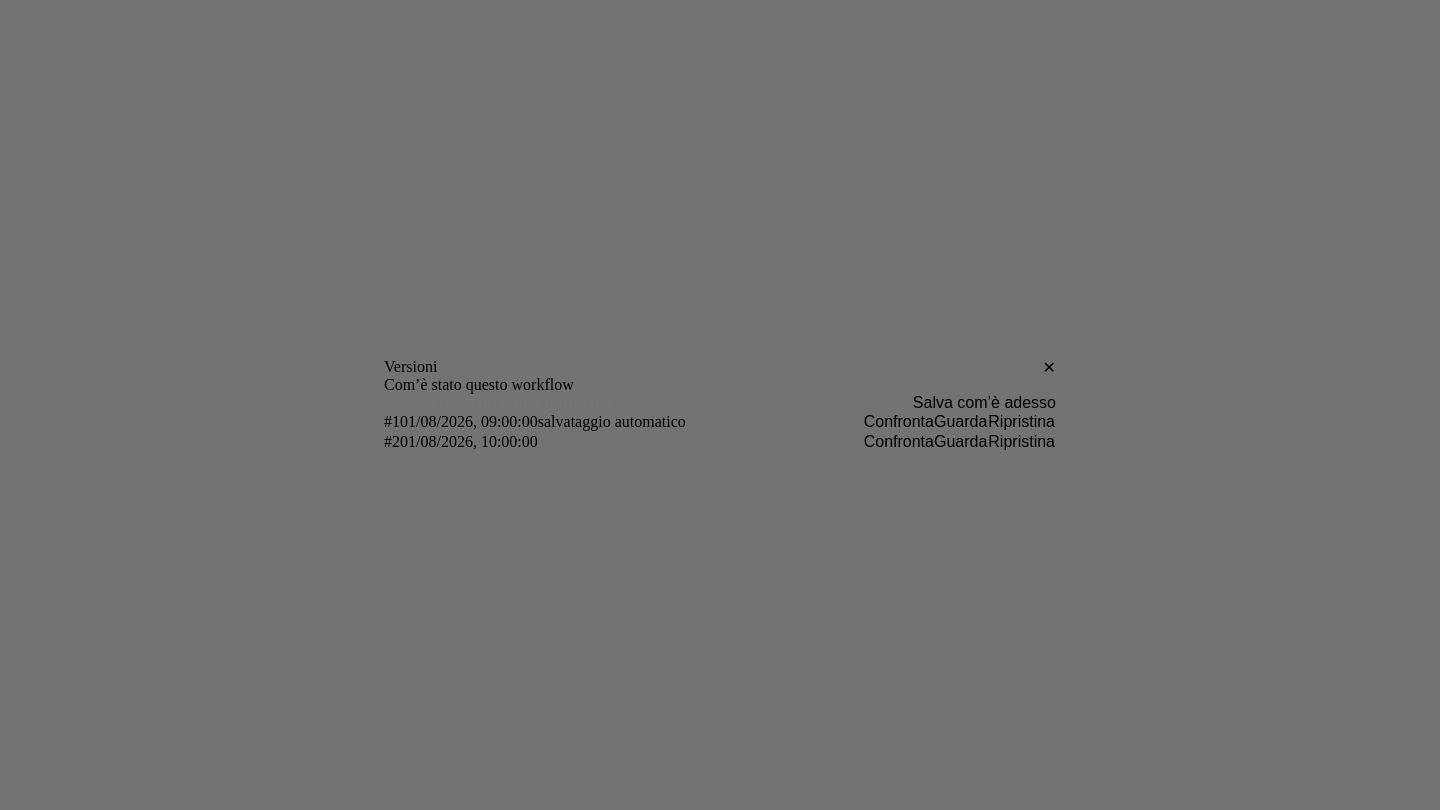
Test: il confronto fra versioni › con due scelte, dice dove guardare
Click the button "Confronta" in the row of "01/08/2026, 09:00:00" at coordinates (899, 422), box x1=864 y1=412 x2=934 y2=432
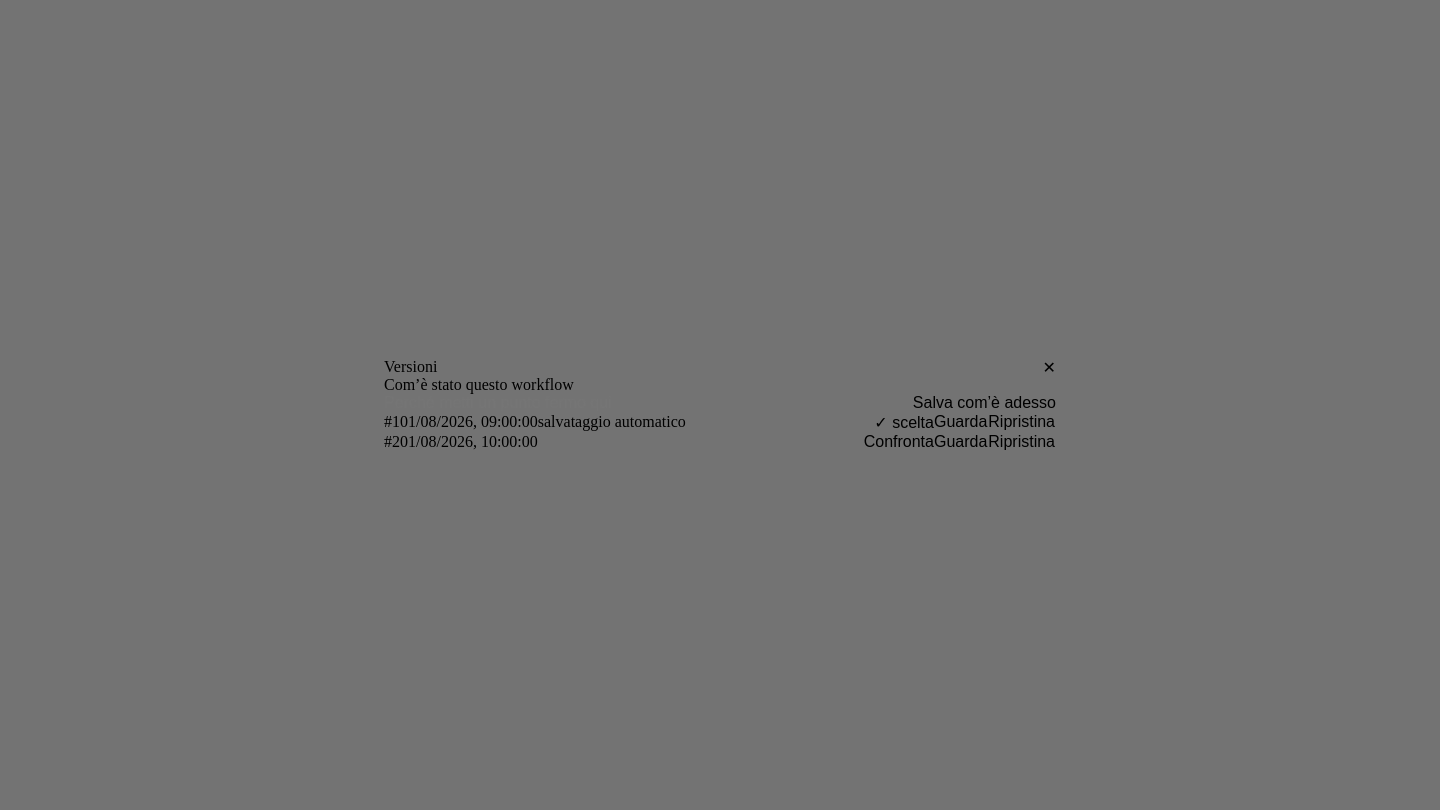
Click the button "Confronta" at coordinates (899, 442), box x1=864 y1=432 x2=934 y2=452
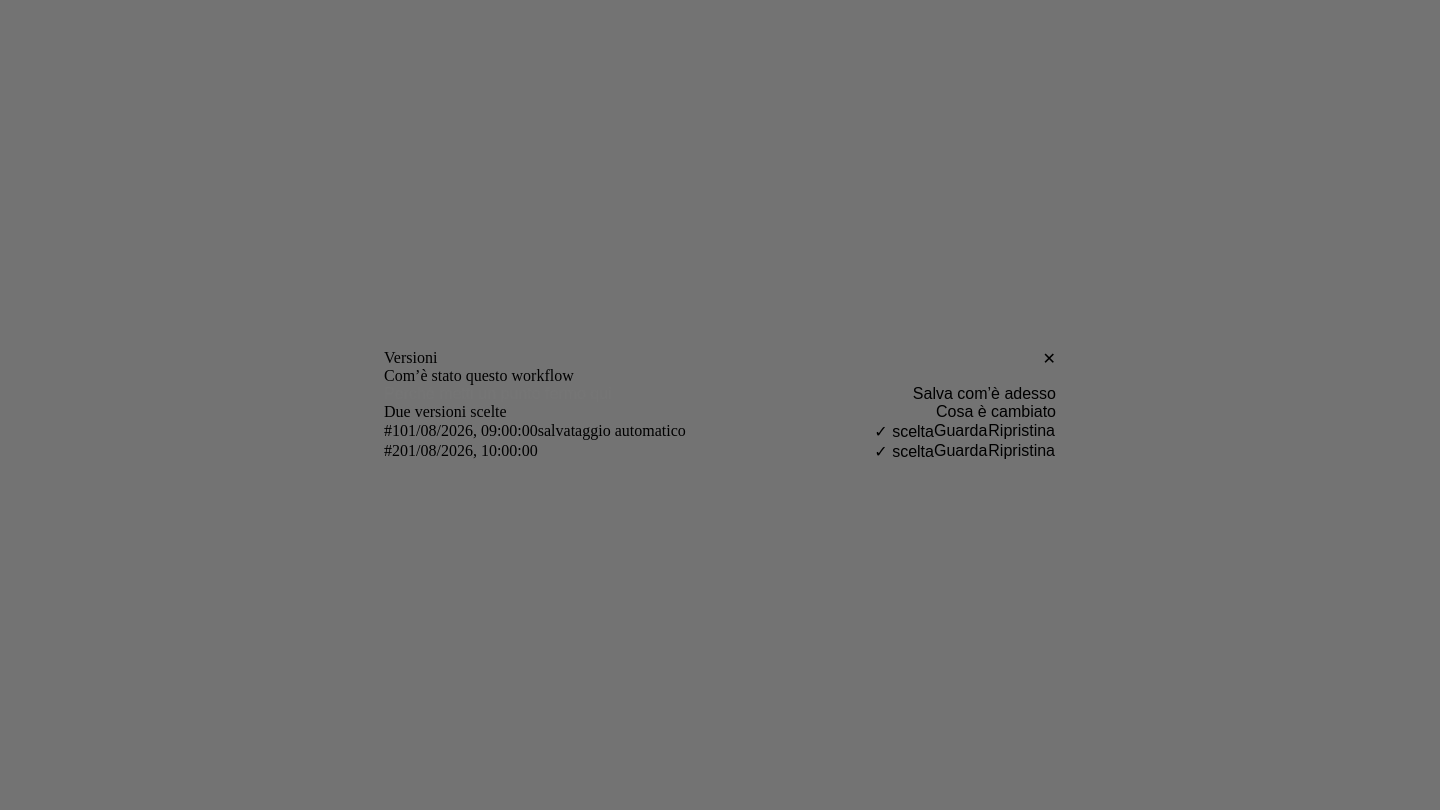
Click the button "Cosa è cambiato" at coordinates (996, 412), box x1=936 y1=403 x2=1056 y2=421
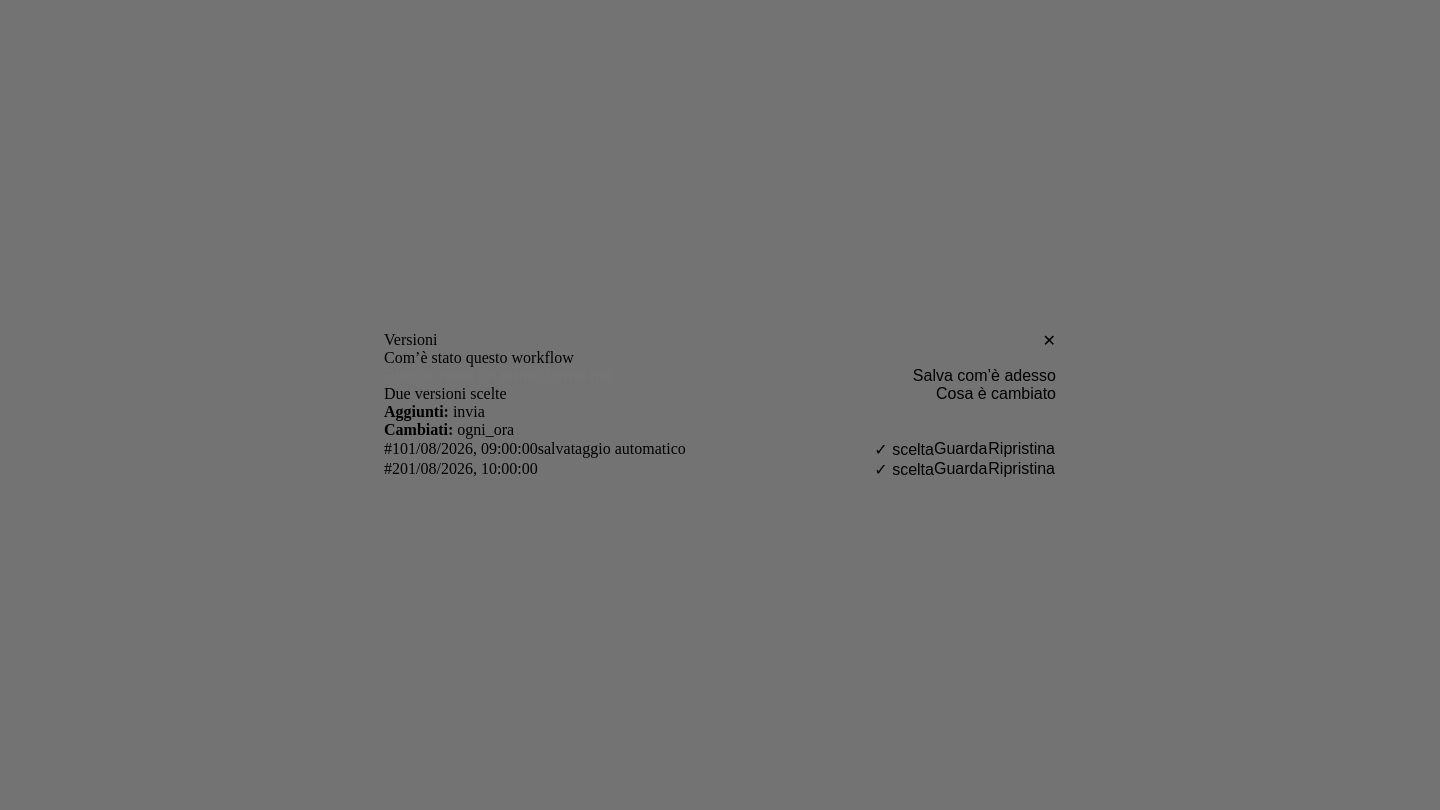
Expected: the text "Aggiunti: invia" is shown, x1=384 y1=403 x2=485 y2=420
Expected: the text "Cambiati: ogni_ora" is shown, x1=384 y1=421 x2=514 y2=438
